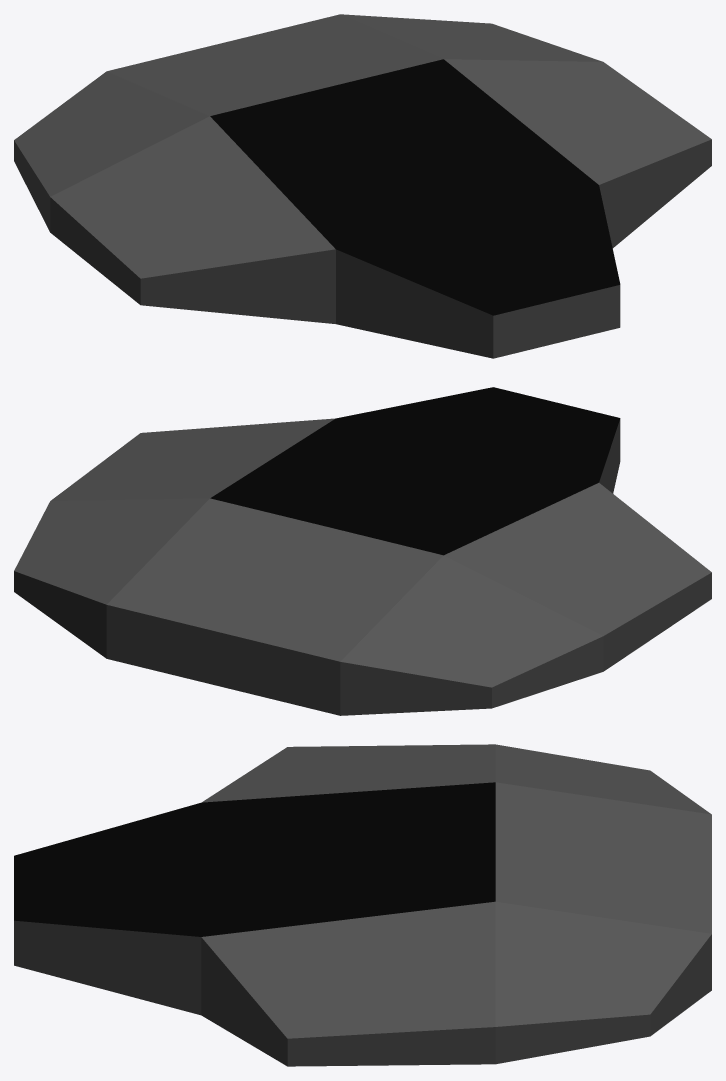
The model's file is ship.glb.
3 views of the same model, one above another, from view 1: azimuth 30°, elevation 25°; view 2: azimuth 150°, elevation 25°; view 3: azimuth 270°, elevation 25° (orthographic). The views are drawn at different scales.
Parts seen in each view (by area): view 1: Cube; view 2: Cube; view 3: Cube.
Boxes of the visible parts, x1=… form: Cube: x1=14, y1=14, x2=711, y2=358; Cube: x1=14, y1=387, x2=711, y2=715; Cube: x1=14, y1=744, x2=711, y2=1066.
Bounding box in the file's own units: 2.81 × 0.544 × 2.84.
1 material, 1 textured.
